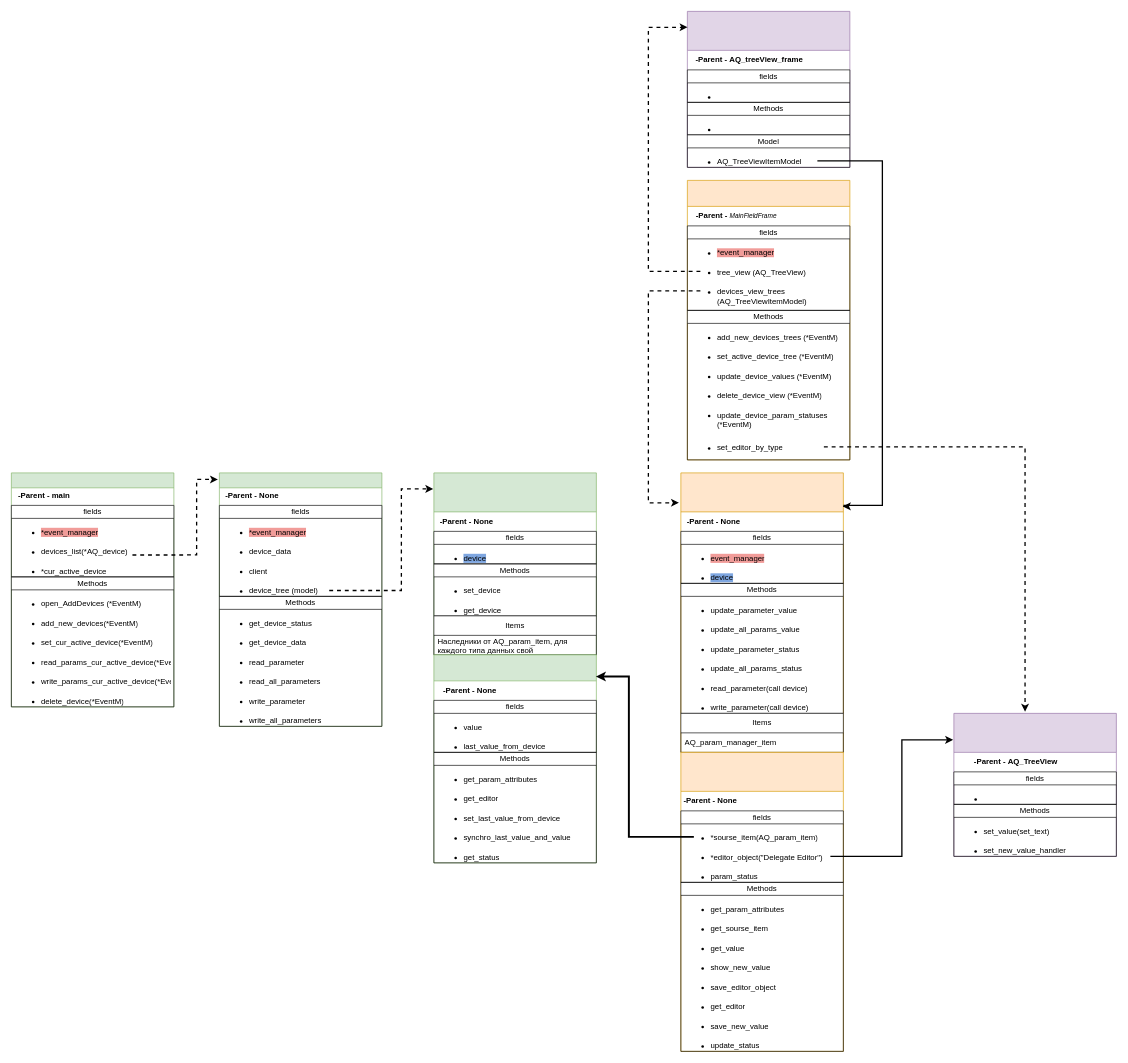
The diagram is 1128 pixels wide and 1063 high, and some of its shapes have lost their labels. Here are the shapes that lost their labels. From the top down, the box of each, then its label:
(687, 11, 850, 167): AQ_WatchListTableView(QTableView) (owner - AQ_treeView_frame )
(687, 180, 850, 460): AQ_WatchListManagerFrame (QFrame): (owner - MainFieldFrame)
(433, 472, 596, 655): AQ_DeviceTreeModel(QStandardItemModel) (owner - AQ_Device)
(11, 472, 174, 707): AQ_Session (owner - Main)
(219, 472, 382, 726): AQ_Device (owner - Main.devices_list)
(680, 472, 843, 752): AQ_WatchListTableModel (QStandardItemModel) (owner - AQ_treeView_manager )
(433, 654, 596, 863): AQ_ParamItem(QStandardItem) (owner - AQ_TreeItemModel )
(953, 713, 1116, 856): "Delegate Editor" AQ_TreeLineEdit(QLineEdit) (owner - AQ_TreeView )
(680, 752, 843, 1051): AQ_ParamManagerItem(QStandardItem) (owner - AQ_TreeViewItemModel )
